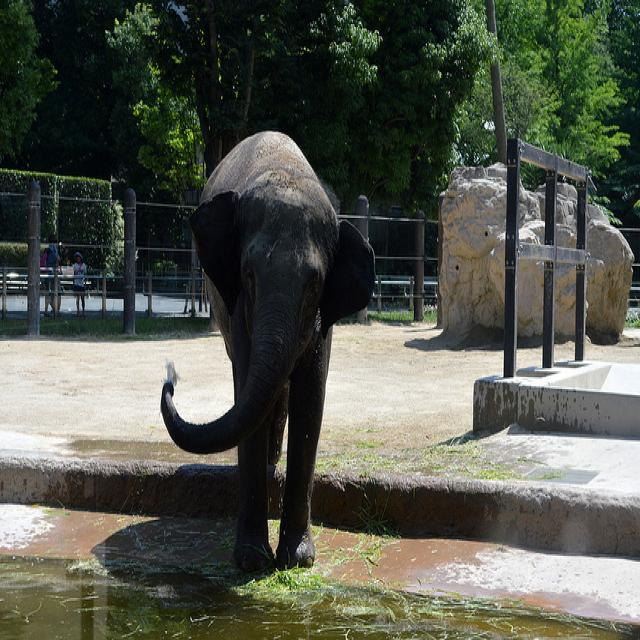Elephant: (160, 128, 375, 572)
person: (72, 251, 86, 315)
